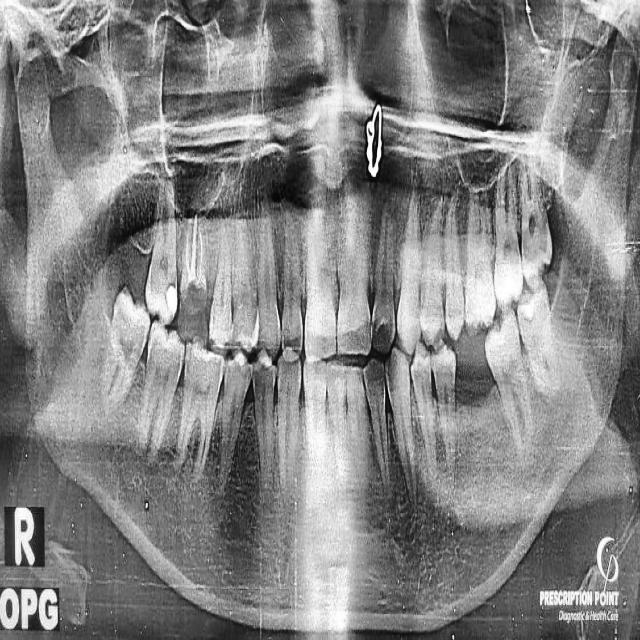karies: (183, 264, 210, 354), (369, 295, 398, 361), (165, 281, 181, 321)
